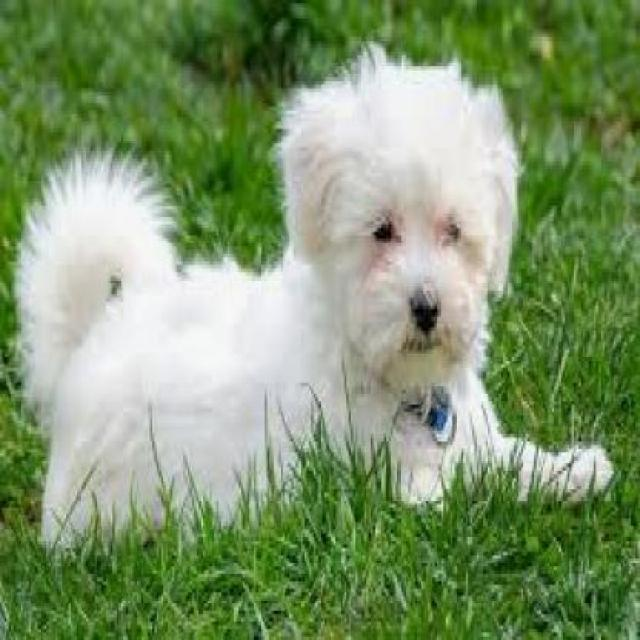Dog: (12, 30, 618, 568)
